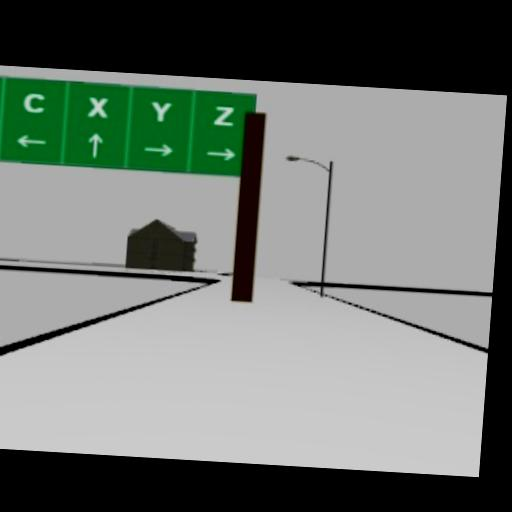C: (22, 92, 45, 113)
Left: (15, 133, 48, 148)
Right: (205, 146, 236, 161), (142, 143, 173, 157)
Straight: (85, 130, 104, 158)
X: (87, 96, 110, 119)
Y: (148, 99, 173, 123)
Z: (211, 105, 236, 126)
